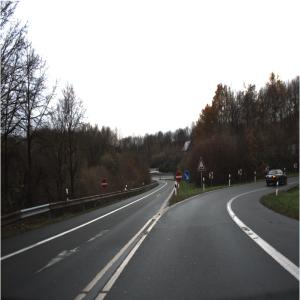NO ENTRY: (177, 171, 184, 184), (102, 179, 109, 190)
keep right: (184, 171, 191, 183)
